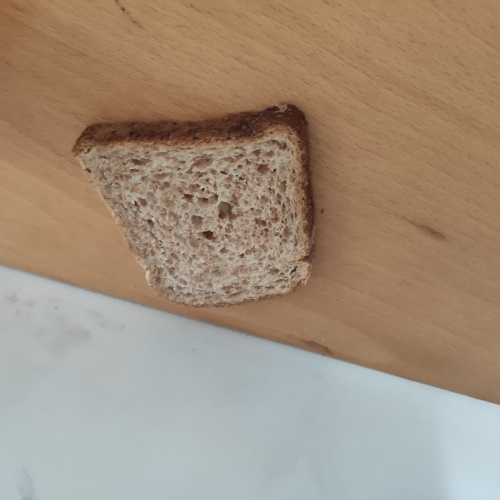pane: (73, 101, 320, 310)
